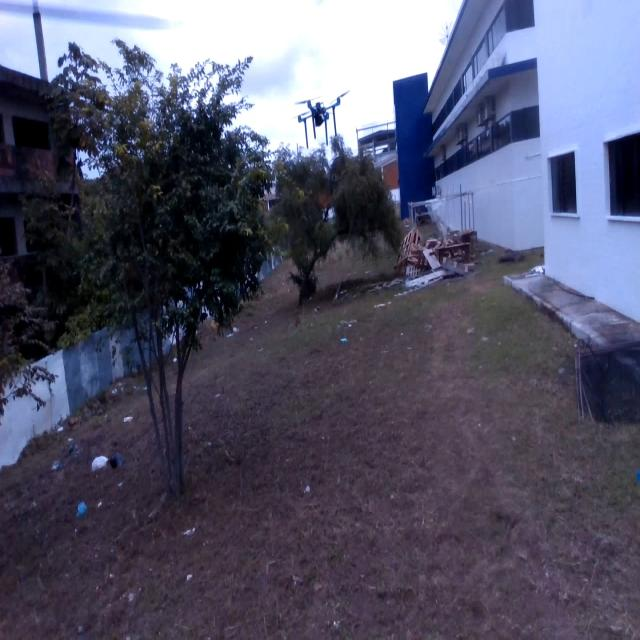-uav-: (294, 86, 348, 150)
